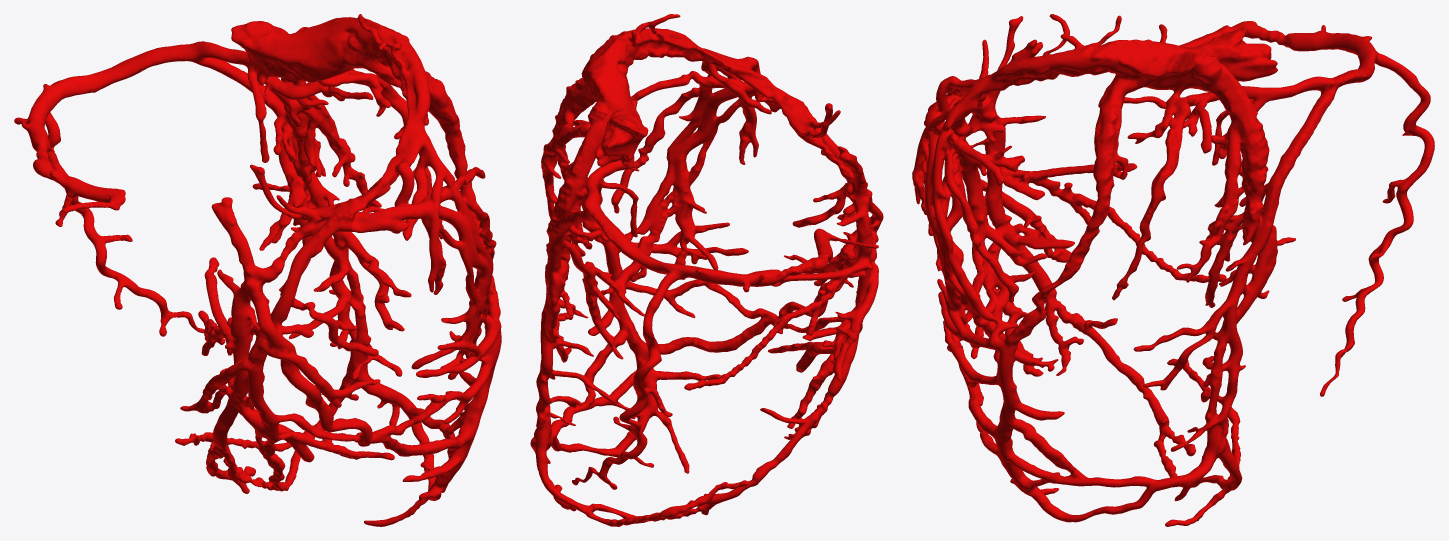
Rendered from coronary-recon.glb.
The picture shows the model from 3 angles, left to right: view 1: azimuth 30°, elevation 25°; view 2: azimuth 150°, elevation 25°; view 3: azimuth 270°, elevation 25°; orthographic projection. The views are drawn at different scales.
Parts seen in each view (by area): view 1: Object_2; view 2: Object_2; view 3: Object_2.
Boxes of the visible parts, x1,y1,x2,y2 form: Object_2: [14, 14, 501, 526]; Object_2: [530, 14, 883, 526]; Object_2: [912, 14, 1434, 526].
Size of the model in its own units: 103 by 129 by 124.
